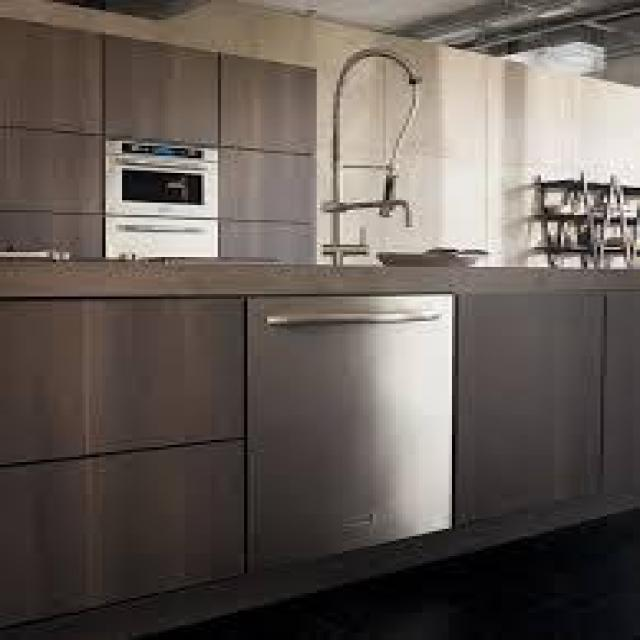dishwasher: (237, 286, 462, 576)
